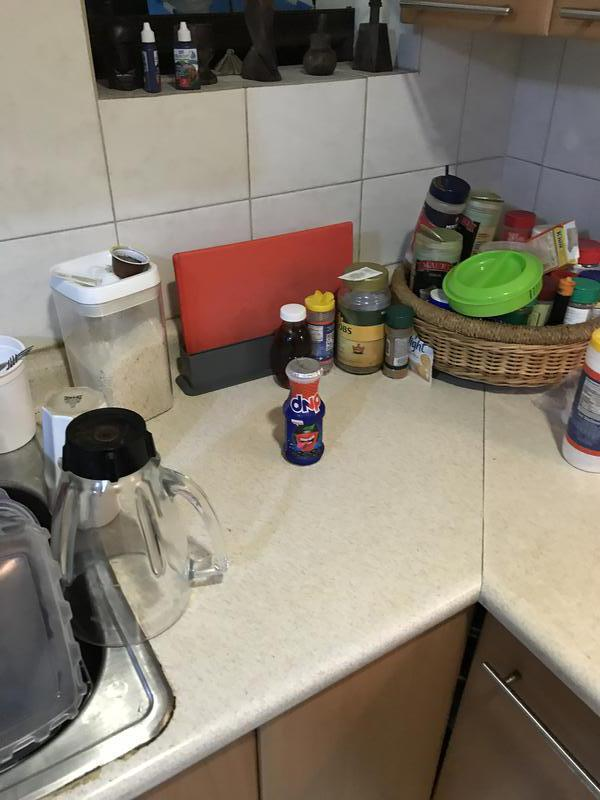danup: (282, 359, 326, 464)
